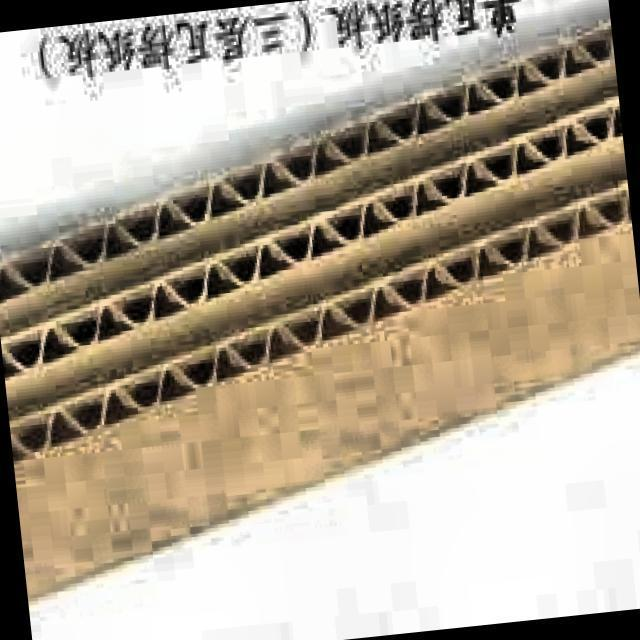cardboard: (0, 15, 640, 631)
